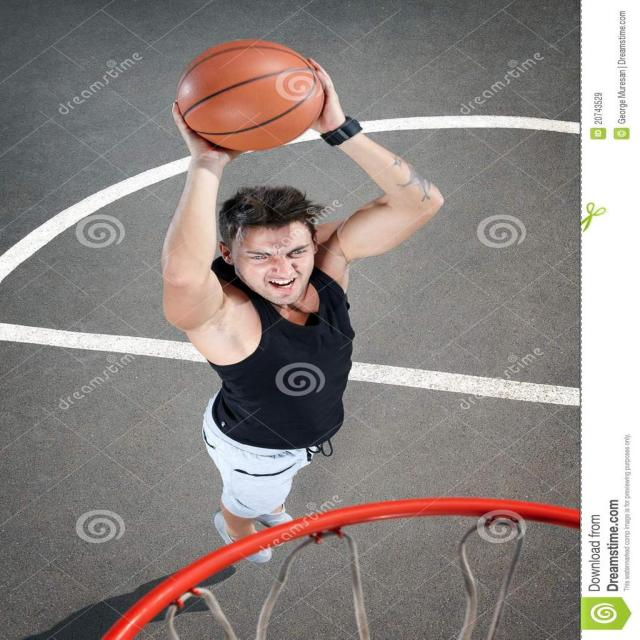Face: (233, 224, 327, 299)
